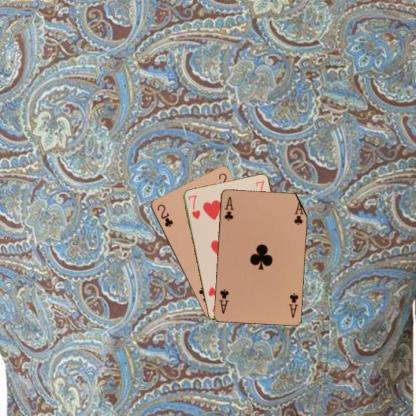2c: (154, 202, 174, 228)
7h: (186, 193, 202, 220)
Ac: (286, 291, 299, 319), (222, 194, 234, 222)
